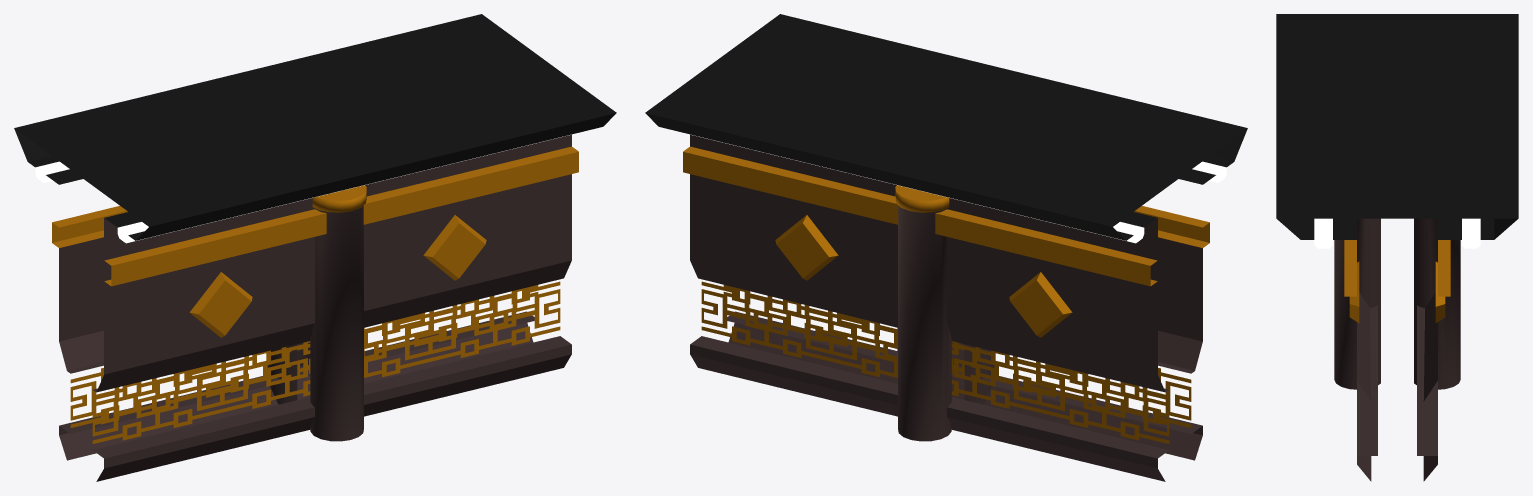
The model's file is Bar Counter.fbx.
The picture shows the model from 3 angles, left to right: view 1: azimuth 30°, elevation 25°; view 2: azimuth 150°, elevation 25°; view 3: azimuth 270°, elevation 25°; orthographic projection. The views are drawn at different scales.
Visible parts, largest first — view 1: Bar Counter; view 2: Bar Counter; view 3: Bar Counter.
Part boxes in pixels (bbox=[...]): Bar Counter: bbox=[14, 14, 616, 481]; Bar Counter: bbox=[645, 14, 1247, 481]; Bar Counter: bbox=[1276, 14, 1518, 481].
Bounding box in the file's own units: 200 × 120 × 100.
